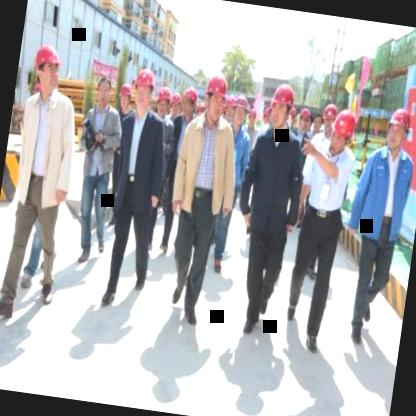head: (93, 70, 116, 110)
helmet: (30, 39, 65, 94), (266, 79, 297, 133), (328, 107, 360, 155), (383, 102, 413, 152), (201, 68, 230, 118), (130, 62, 158, 112), (230, 90, 250, 134), (153, 82, 174, 122), (180, 82, 200, 118), (116, 80, 136, 115), (320, 100, 336, 140), (168, 88, 186, 121), (294, 104, 312, 133)
